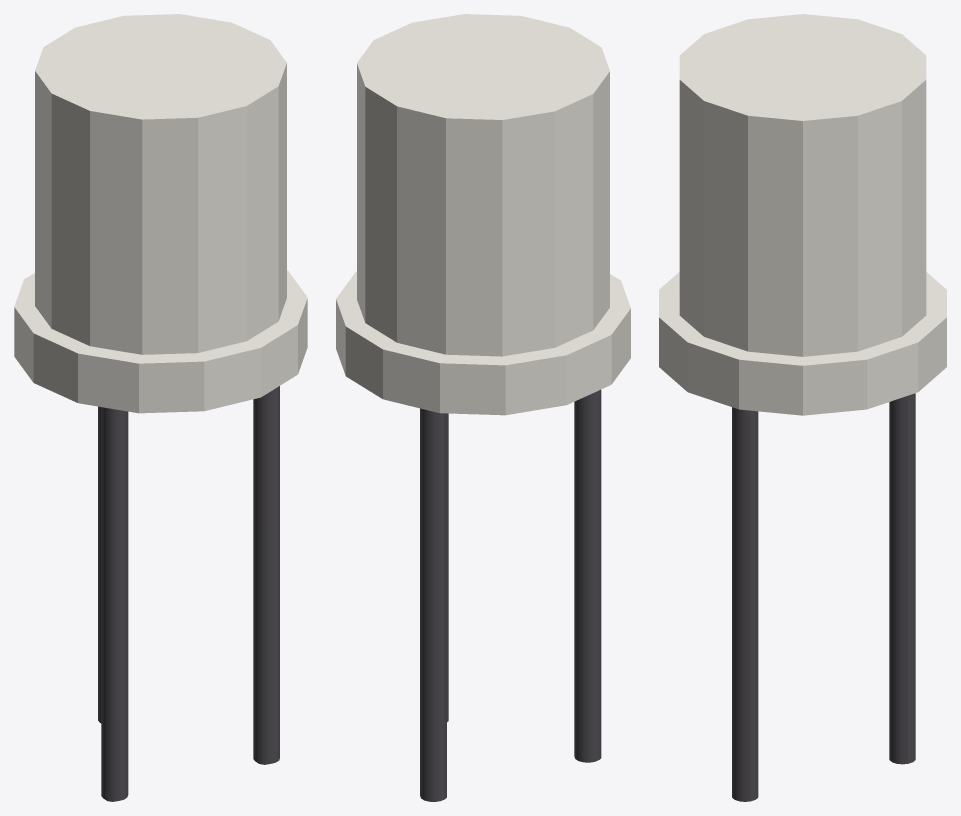
Rendered from Transister.fbx.
3 views of the same model, side by side, from view 1: azimuth 30°, elevation 25°; view 2: azimuth 150°, elevation 25°; view 3: azimuth 270°, elevation 25° (orthographic).
Visible parts, largest first — view 1: transister; view 2: transister; view 3: transister.
Boxes of the visible parts, <box> form: transister: <box>14,14,307,801</box>; transister: <box>336,14,630,801</box>; transister: <box>659,14,946,801</box>.
Size of the model in its own units: 0.5226 by 1.35 by 0.5095.
